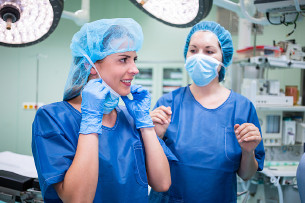face_mask: (97, 40, 140, 95), (184, 33, 220, 86)
